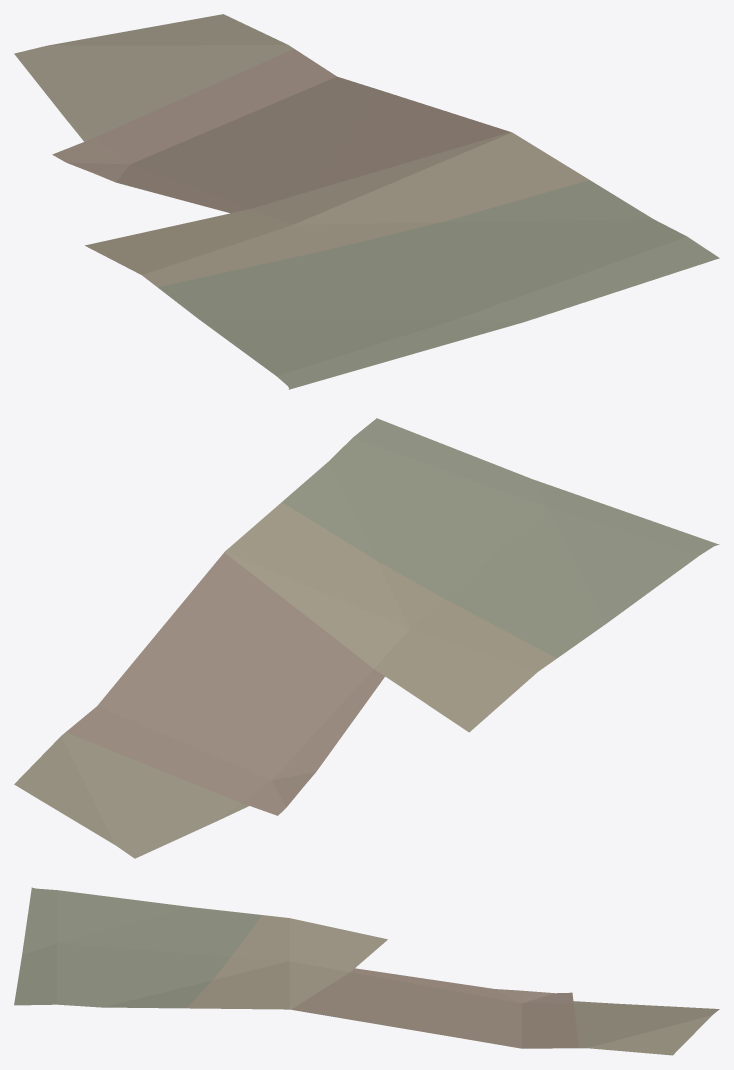
The model's file is farm_8_0_soil.glb.
3 renders of one model, top to bottom at view 1: azimuth 30°, elevation 25°; view 2: azimuth 150°, elevation 25°; view 3: azimuth 270°, elevation 25°, orthographic. The views are drawn at different scales.
Visible parts, largest first — view 1: geometry_0; view 2: geometry_0; view 3: geometry_0.
Boxes of the visible parts, bbox=[...] form: geometry_0: bbox=[14, 14, 719, 389]; geometry_0: bbox=[14, 418, 719, 858]; geometry_0: bbox=[14, 887, 719, 1055].
Size of the model in its own units: 118 by 31.5 by 243.
